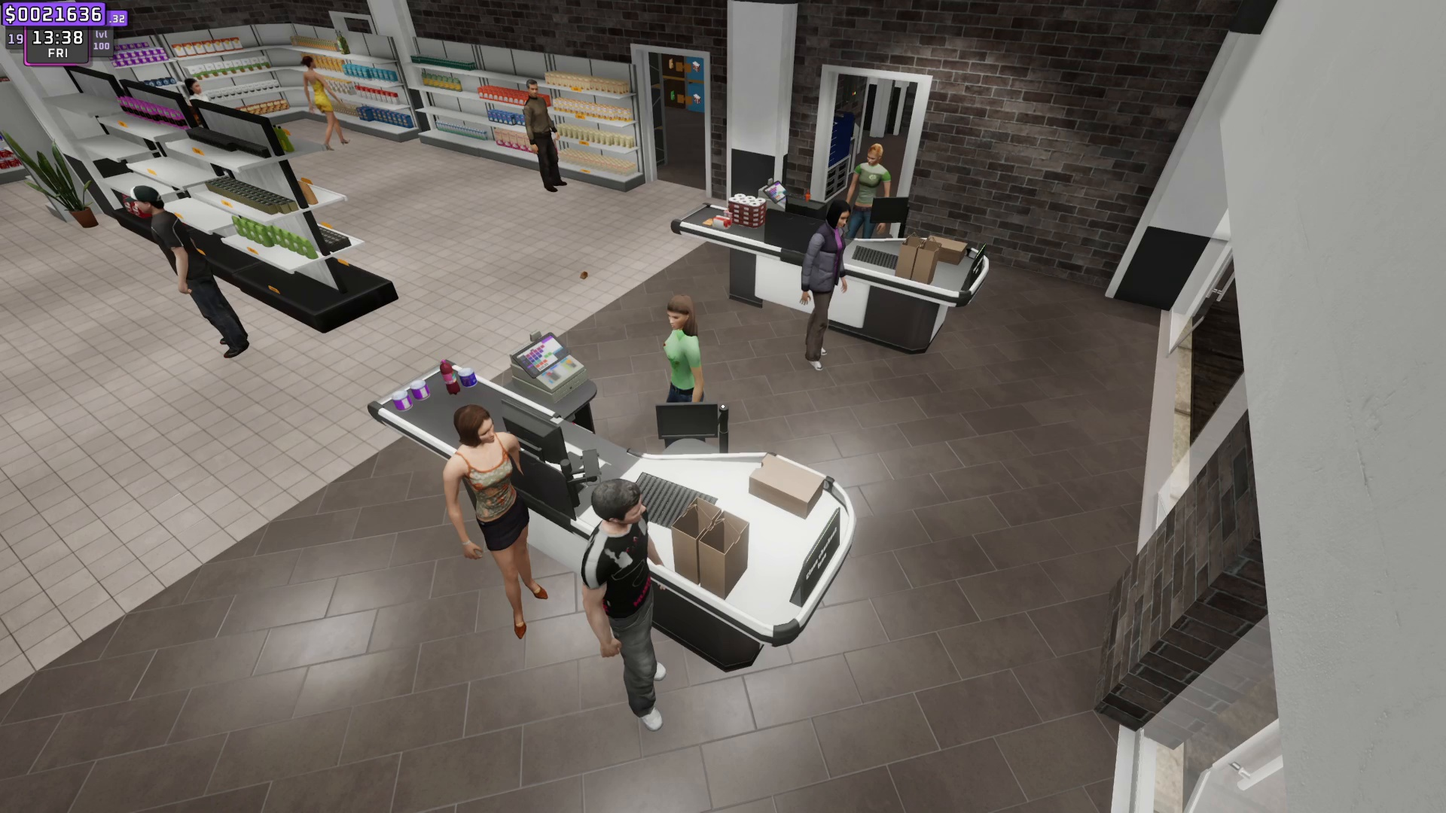Client: (445, 402, 559, 634), (590, 482, 695, 727), (810, 200, 846, 378)
Employee: (661, 304, 710, 402), (852, 139, 889, 234)
